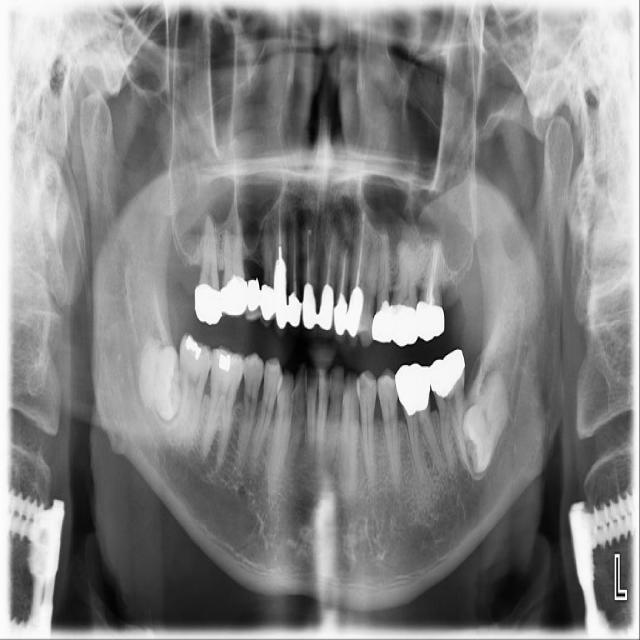52: (417, 340, 475, 401), (171, 328, 221, 378), (203, 343, 250, 392), (394, 362, 433, 418), (388, 301, 418, 347), (344, 284, 365, 348), (193, 283, 223, 327), (415, 300, 446, 342), (273, 257, 289, 337), (219, 274, 248, 317), (318, 283, 335, 339), (372, 300, 393, 344), (302, 282, 317, 336), (333, 292, 347, 345), (260, 284, 276, 325), (245, 279, 261, 319), (287, 292, 302, 328)
73: (417, 233, 445, 312), (348, 208, 371, 295), (286, 208, 302, 301), (273, 180, 289, 267), (322, 223, 338, 294), (336, 235, 351, 301), (301, 220, 314, 287), (580, 536, 584, 544)
BioHorizons Implant: (415, 239, 447, 342)
Biomet 3i Implant: (443, 365, 526, 479)
Blue Sky Bio Implant: (428, 349, 471, 475)
Caries: (193, 213, 223, 327)
Implant: (174, 331, 214, 452)
Keystone Dental Implant: (136, 342, 189, 421)
